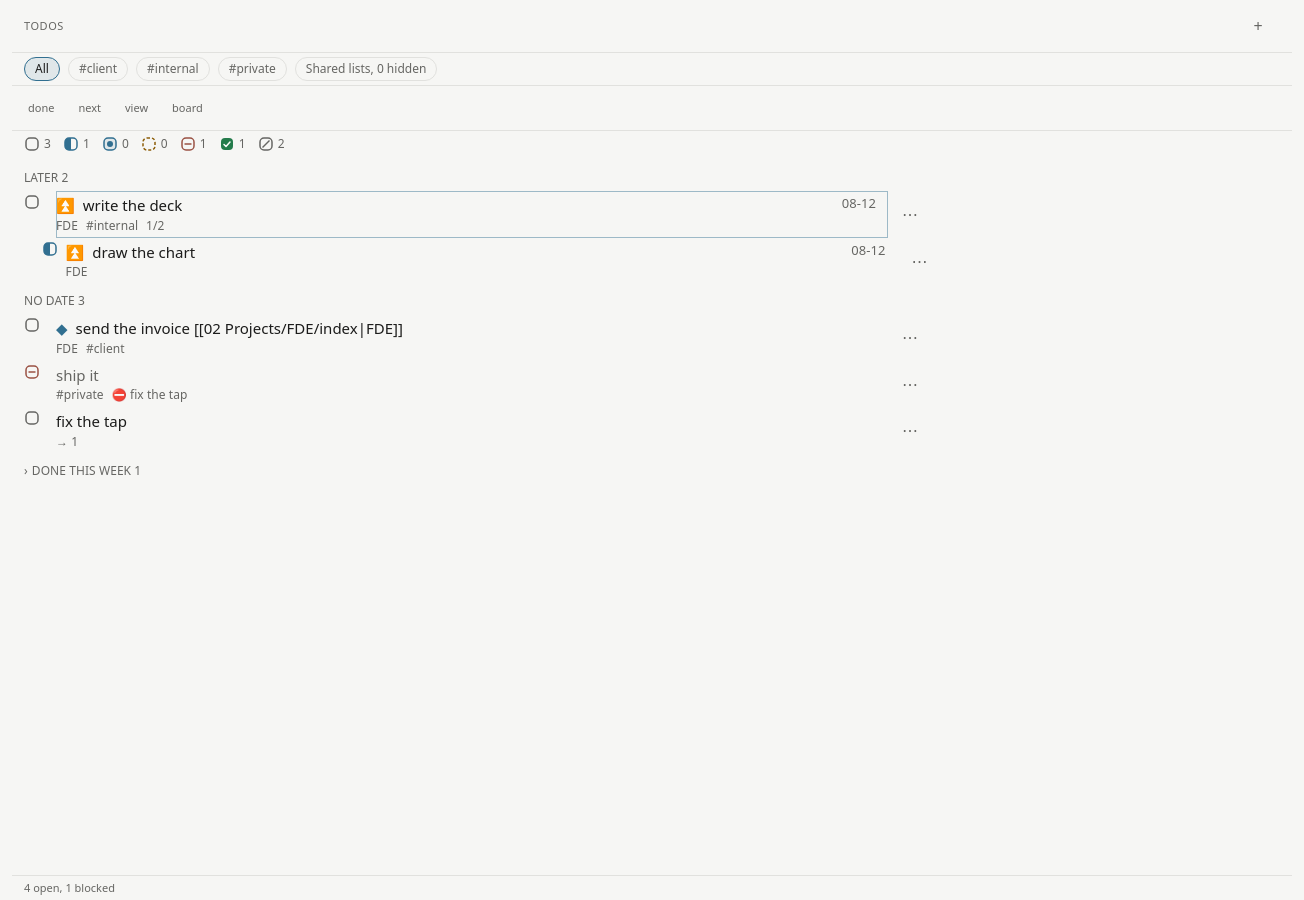
Test case: the todo board › B4 cancel on a touch screen shuts the project picker and writes nothing
This screenshot has width=1304, height=900.
Expected: the button "⏫ write the deck FDE #internal 1/2 08-12" is shown, [56, 191, 888, 238]
Press c in the element "todos"
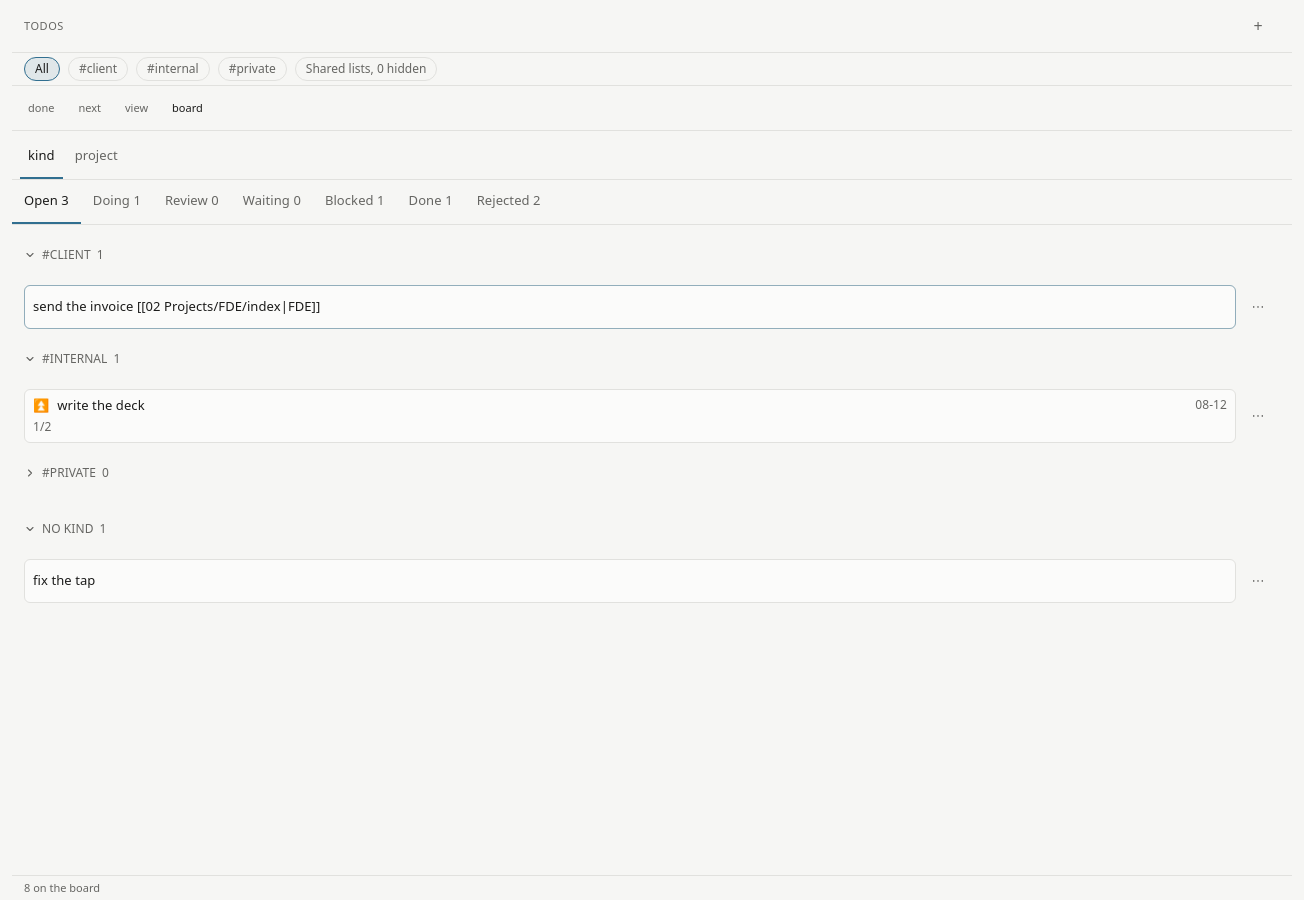
Expected: the button with test id "todo-card" is shown, [24, 285, 1236, 329]
Click the button named "more for fix the tap".
click(1258, 580)  # box [1236, 558, 1280, 602]
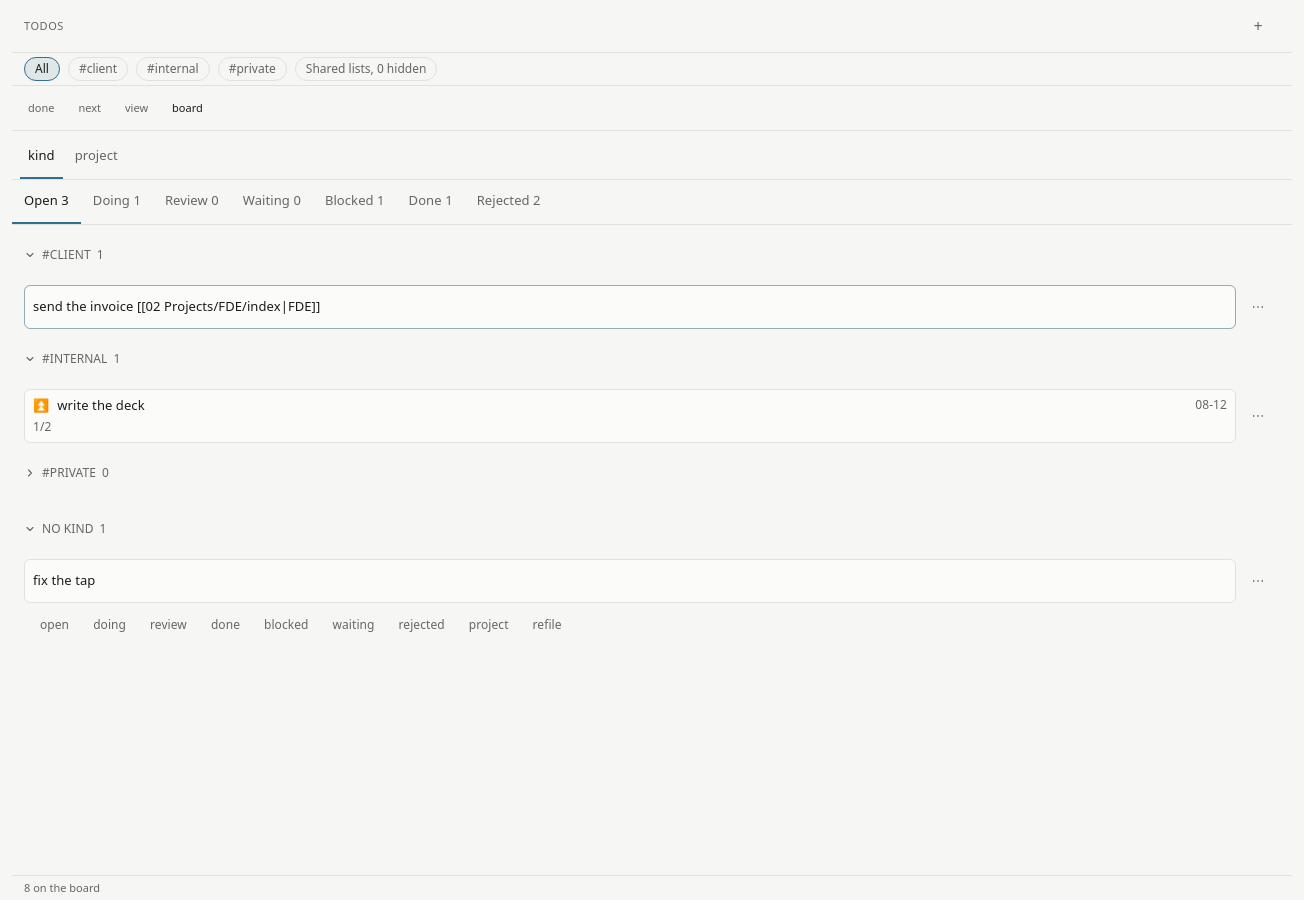
Click the button with aria-label "project fix the tap".
click(489, 624)  # box [457, 602, 520, 646]
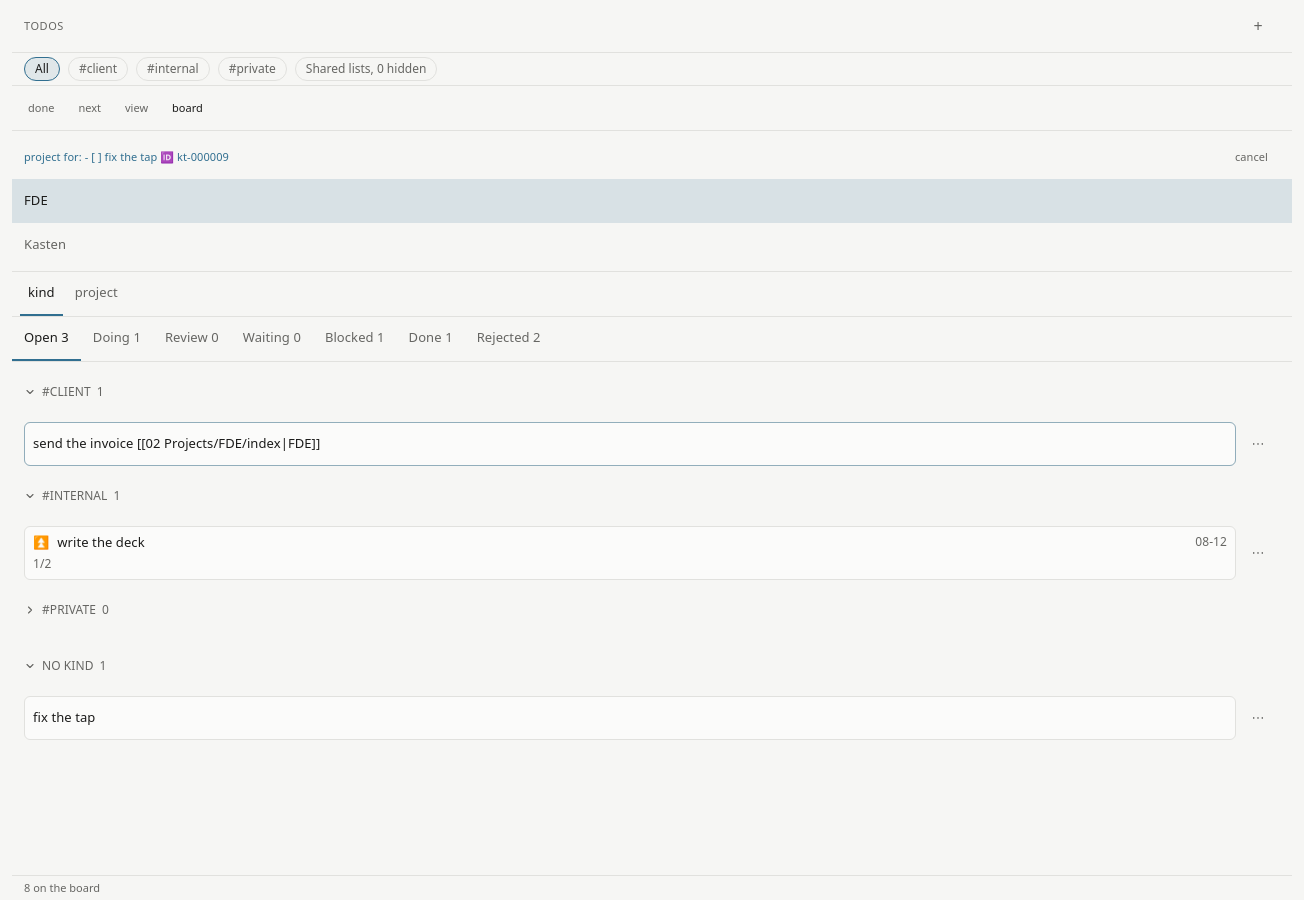
Click the button "cancel".
click(1252, 157)  # box [1223, 135, 1280, 179]
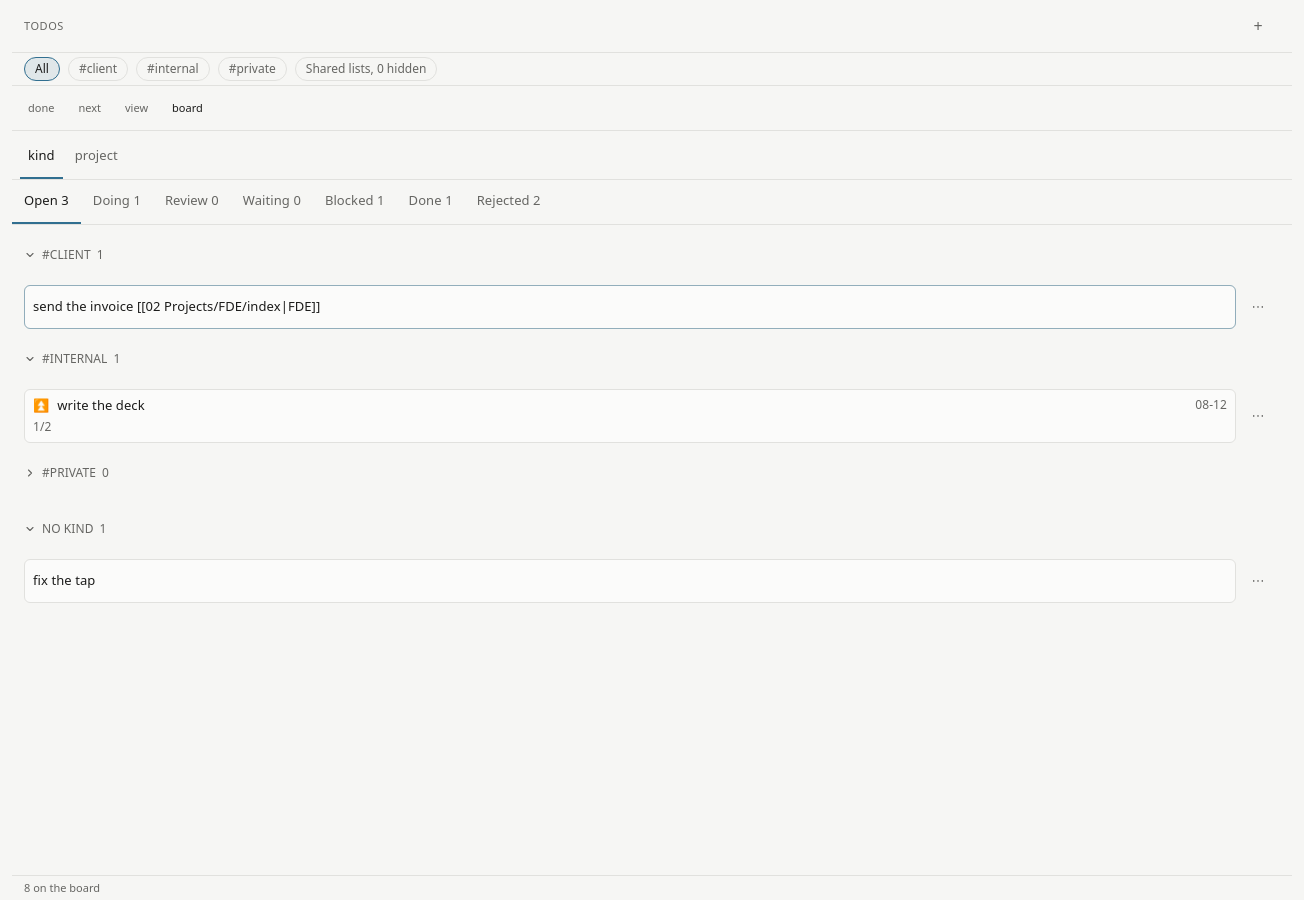
Expected: the element with test id "todo-project-pick" is gone
